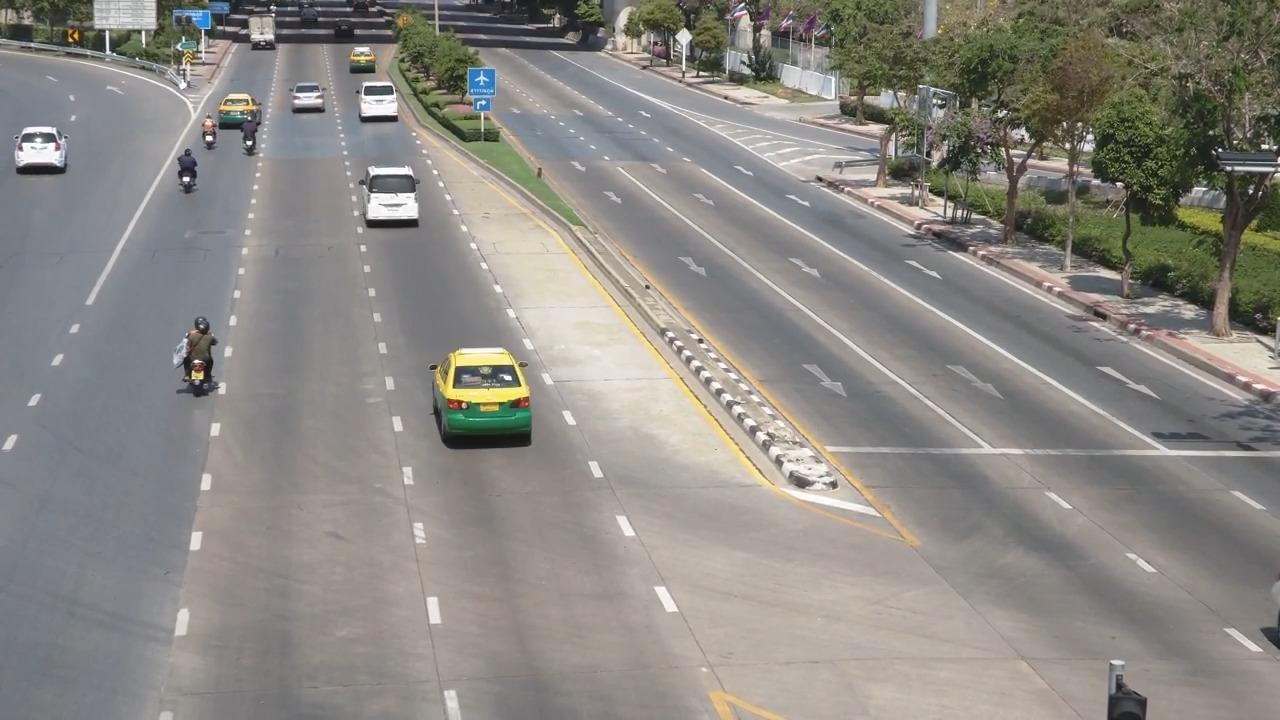CAR: (416, 326, 550, 464), (352, 153, 435, 241), (8, 111, 73, 193), (343, 73, 418, 143), (280, 78, 345, 132), (239, 6, 285, 61), (203, 93, 252, 137), (339, 43, 389, 79)
MOTOR: (155, 306, 240, 414), (227, 111, 268, 176), (167, 146, 208, 209), (187, 115, 222, 162)
